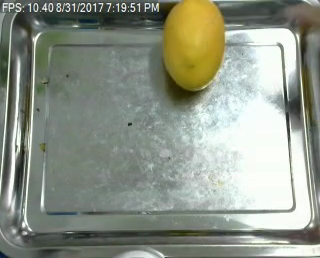Mango: (154, 0, 230, 93)
